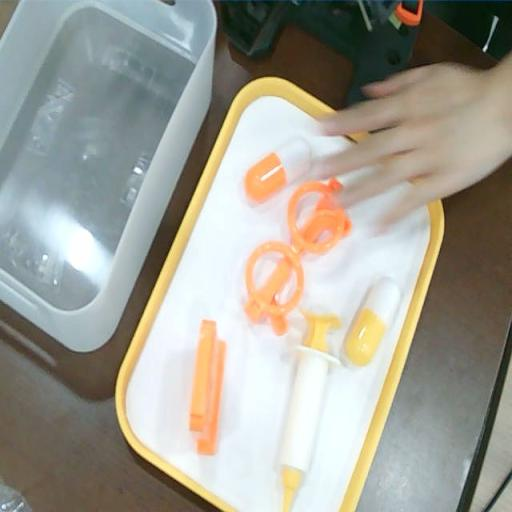hospital: (332, 73, 510, 195)
